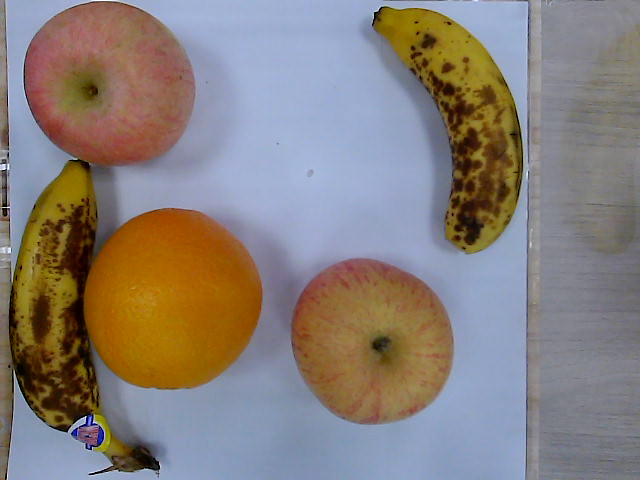fresh_apple: (24, 2, 195, 166), (291, 260, 453, 425)
fresh_orange: (84, 208, 263, 390)
rotten_banana: (8, 160, 159, 470), (372, 5, 524, 257)
